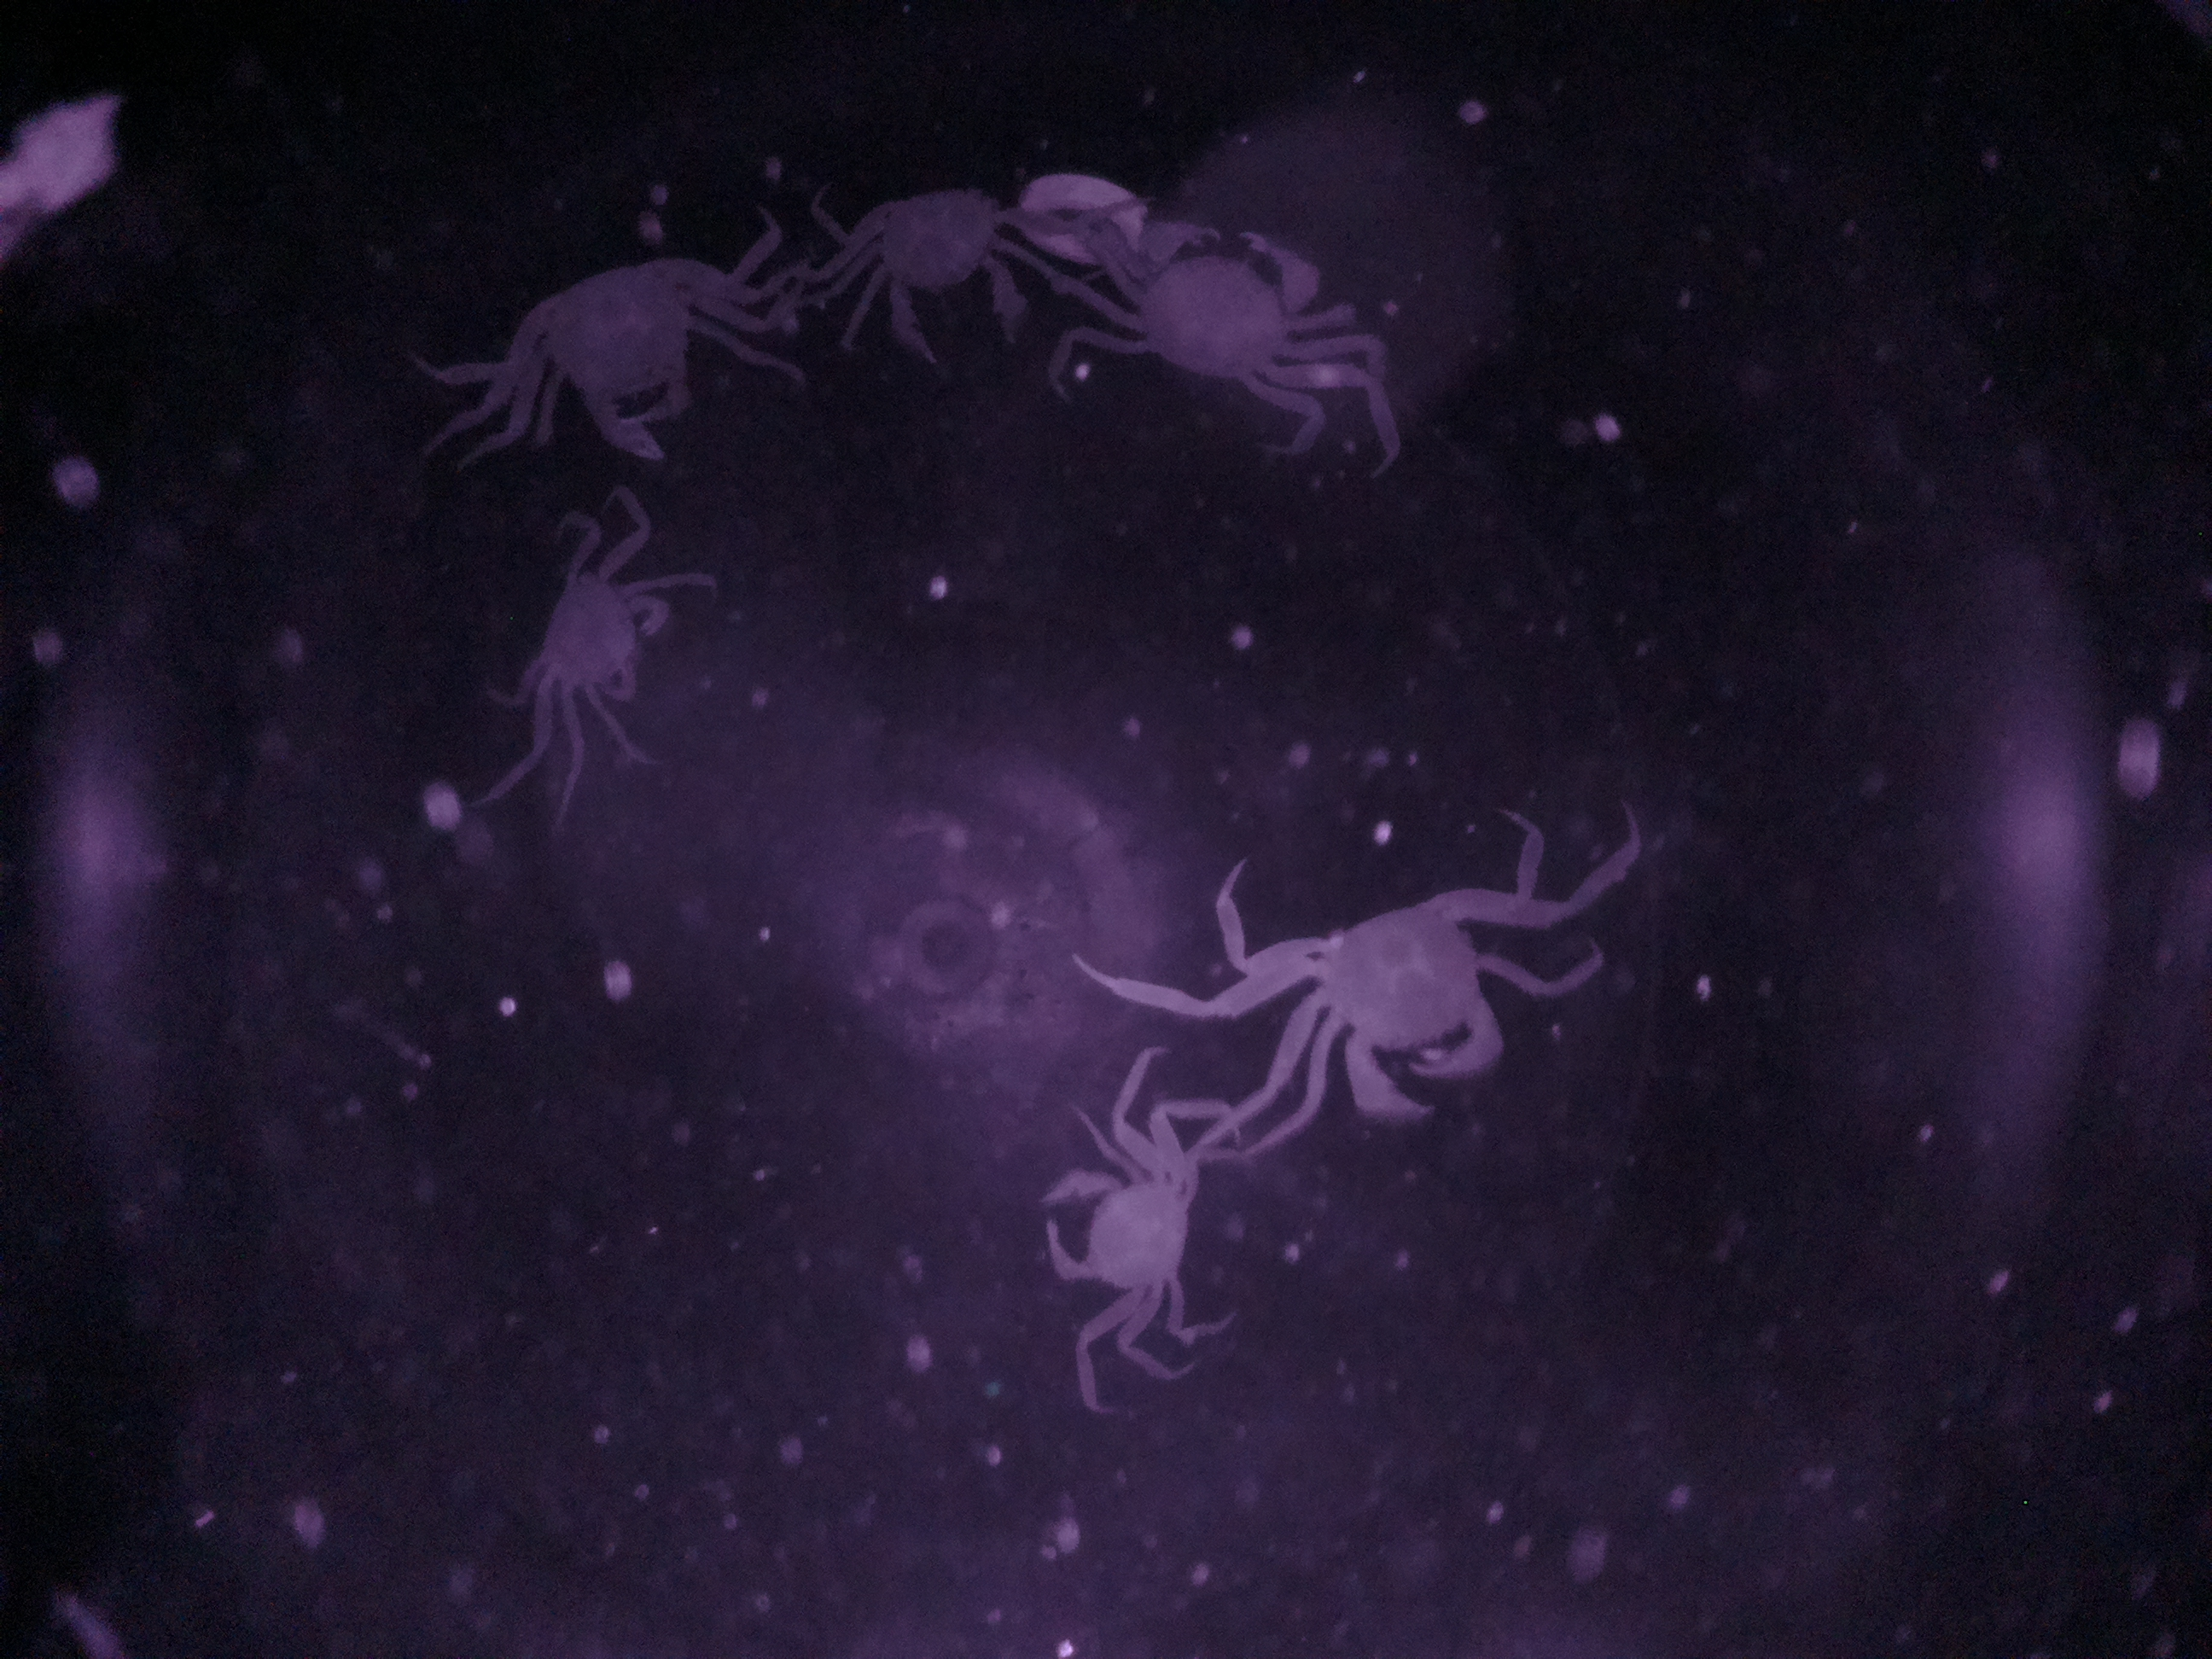Crab: (1266, 843, 1522, 1140), (1080, 204, 1338, 383), (850, 166, 1038, 385), (1033, 1121, 1209, 1349), (510, 523, 667, 739)
